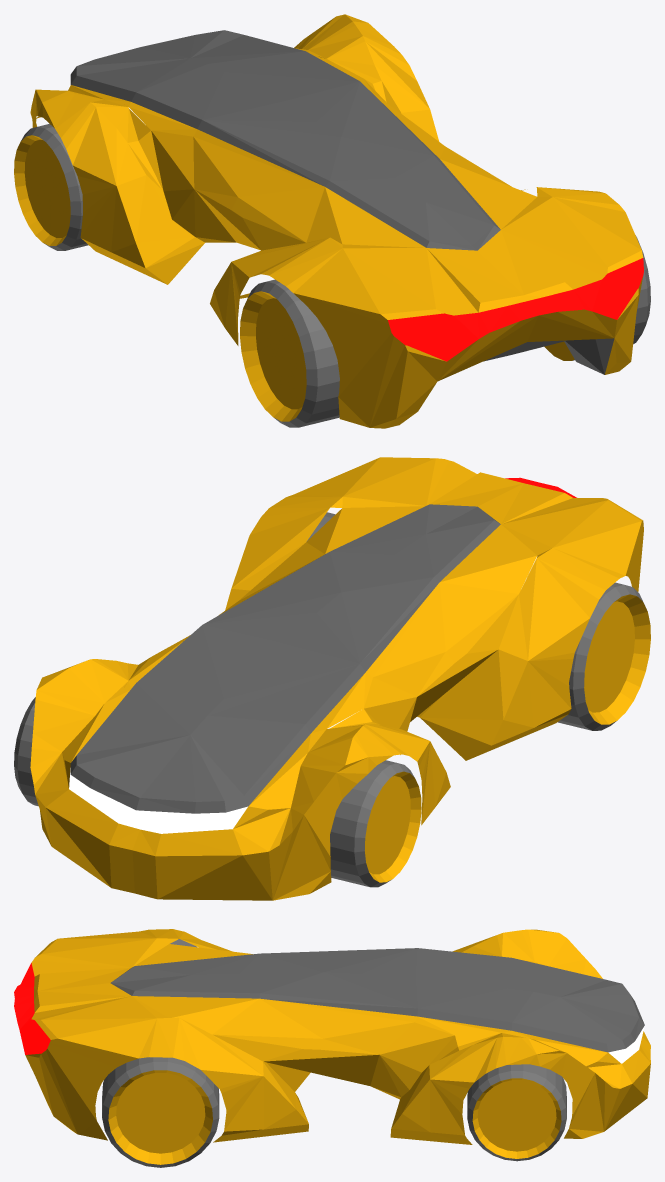
3 views of the same model, one above another, from view 1: azimuth 30°, elevation 25°; view 2: azimuth 150°, elevation 25°; view 3: azimuth 270°, elevation 25° (orthographic). The views are drawn at different scales.
Parts seen in each view (by area): view 1: Boole_1__2.2-Mat.2, Boole_1__2.2-Mat.4 (×2), Cylinder.1-Mat.2 (×2), Cylinder.1-Mat (×2), Boole_1__2.2-Mat.6; view 2: Boole_1__2.2-Mat.2, Boole_1__2.2-Mat.4, Cylinder.1-Mat.2 (×2), Cylinder.1-Mat (×2), Boole_1__2.2-Mat.5; view 3: Boole_1__2.2-Mat.2, Boole_1__2.2-Mat.4, Cylinder.1-Mat.2 (×2), Cylinder.1-Mat (×2), Boole_1__2.2-Mat.6, Boole_1__2.2-Mat.5.
Part boxes in pixels (x1,y1,x2,y2): Boole_1__2.2-Mat.2: (30,14,643,428); Boole_1__2.2-Mat.4 (×2): (70,30,614,374); Cylinder.1-Mat.2 (×2): (14,135,574,421); Cylinder.1-Mat (×2): (21,124,650,427); Boole_1__2.2-Mat.6: (388,258,643,361); Boole_1__2.2-Mat.2: (30,457,643,900); Boole_1__2.2-Mat.4: (70,504,500,813); Cylinder.1-Mat.2 (×2): (365,594,650,882); Cylinder.1-Mat (×2): (14,512,642,887); Boole_1__2.2-Mat.5: (69,768,247,833); Boole_1__2.2-Mat.2: (25,929,650,1144); Boole_1__2.2-Mat.4: (110,948,644,1052); Cylinder.1-Mat.2 (×2): (108,1070,561,1164); Cylinder.1-Mat (×2): (102,939,566,1167); Boole_1__2.2-Mat.6: (14,963,50,1054); Boole_1__2.2-Mat.5: (608,1026,644,1063).
Size of the model in its own units: 248 by 115 by 499.
